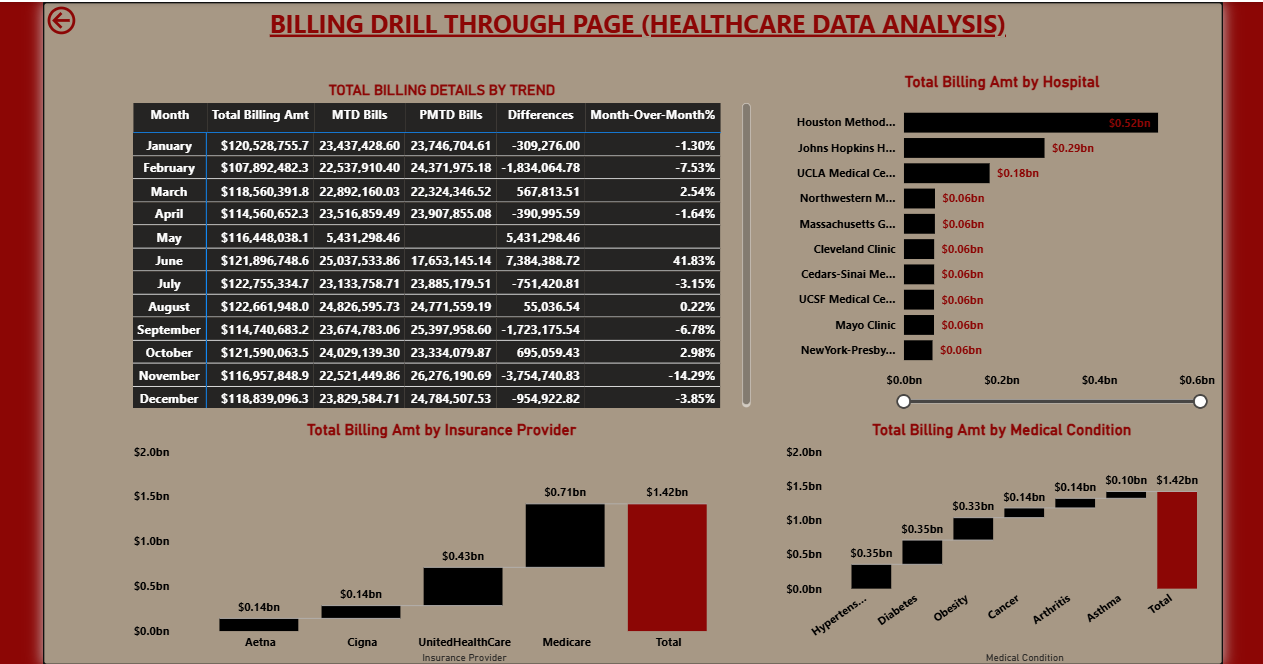

The dashboard page shown, as its layout file describes it:
{"tool":"powerbi","page":{"name":"BILLING DRILL THROUGH PAGE","canvas":[1280,720],"ordinal":1},"visuals":[{"type":"textbox","box":[9.6,0,1270.6,51],"z":0},{"type":"pivotTable","title":"TOTAL BILLING DETAILS BY TREND","fields":{"Rows":["Admission_Date.Date.Variation.Date Hierarchy.Month"],"Values":["MEASURE TABLE.Total Billing Amt","MEASURE TABLE.MTD Bills","MEASURE TABLE.PMTD Bills","MEASURE TABLE.Differences","MEASURE TABLE.Month-Over-Month%"]},"box":[92.3,85.4,679.4,358.3],"z":1000},{"type":"clusteredBarChart","fields":{"Category":["Data.Hospital"],"Y":["MEASURE TABLE.Total Billing Amt"]},"box":[800.7,75.8,479.6,368],"z":2000},{"type":"waterfallChart","fields":{"Category":["Data.Insurance Provider"],"Y":["MEASURE TABLE.Total Billing Amt"]},"box":[92,453,679,267],"z":3000},{"type":"waterfallChart","fields":{"Category":["Data.Medical Condition"],"Y":["MEASURE TABLE.Total Billing Amt"]},"box":[801,453,479,267],"z":4000},{"type":"actionButton","box":[0,0,100,40],"z":5000}]}

Visuals, with their boxes on the page's 1280x720 design canvas (x1, y1, x2, y2). These are canvas units, not pixel positions in the 1263x664 screenshot, which may show the page scaled, cropped or inside an application window:
textbox: box(10, 0, 1280, 51)
"TOTAL BILLING DETAILS BY TREND" pivotTable: box(92, 85, 772, 444)
clusteredBarChart - Data.Hospital x MEASURE TABLE.Total Billing Amt: box(801, 76, 1280, 444)
waterfallChart - Data.Insurance Provider x MEASURE TABLE.Total Billing Amt: box(92, 453, 771, 720)
waterfallChart - Data.Medical Condition x MEASURE TABLE.Total Billing Amt: box(801, 453, 1280, 720)
actionButton: box(0, 0, 100, 40)
